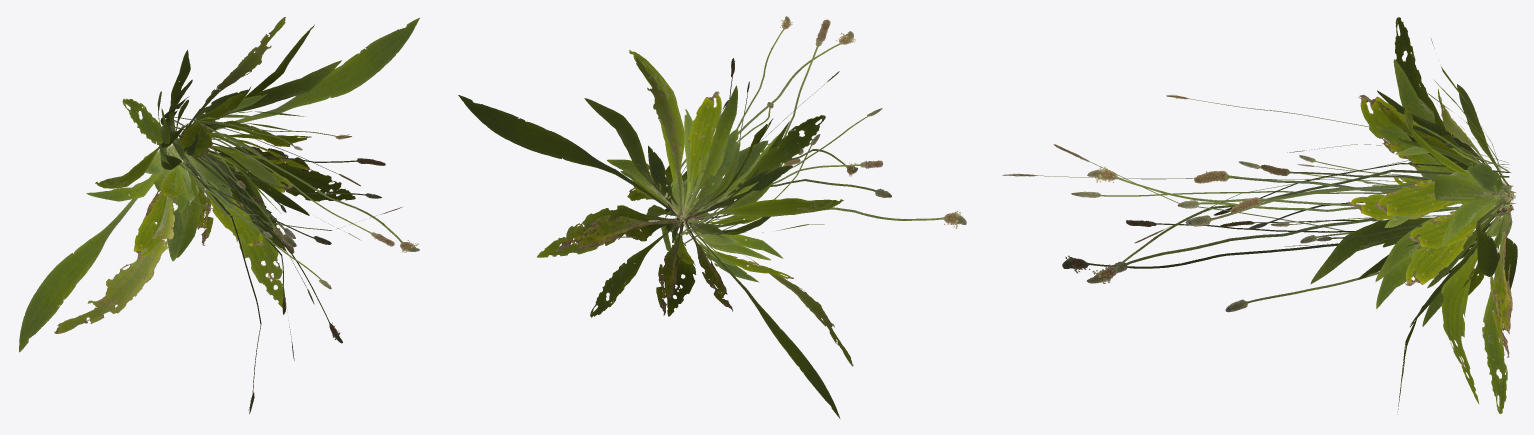
Rendered from Weed_04_Var2_LOD1.fbx.
3 views of the same model, side by side, from view 1: azimuth 30°, elevation 25°; view 2: azimuth 150°, elevation 25°; view 3: azimuth 270°, elevation 25° (orthographic). The views are drawn at different scales.
Visible parts, largest first — view 1: Var2_LOD1; view 2: Var2_LOD1; view 3: Var2_LOD1.
Boxes of the visible parts, box(x1,y1,x2,y2) form: Var2_LOD1: box(19, 17, 419, 413); Var2_LOD1: box(458, 16, 966, 418); Var2_LOD1: box(1002, 17, 1517, 414).
Size of the model in its own units: 60.99 by 43.52 by 55.62.
